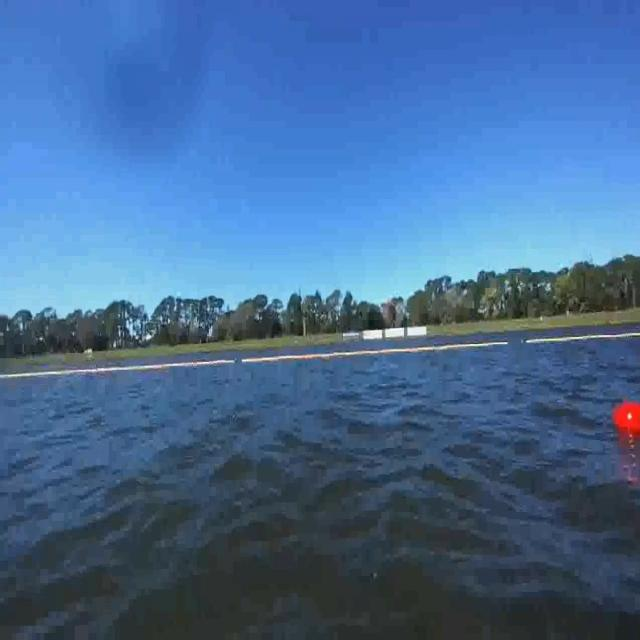red-buoy: (613, 402, 640, 436)
